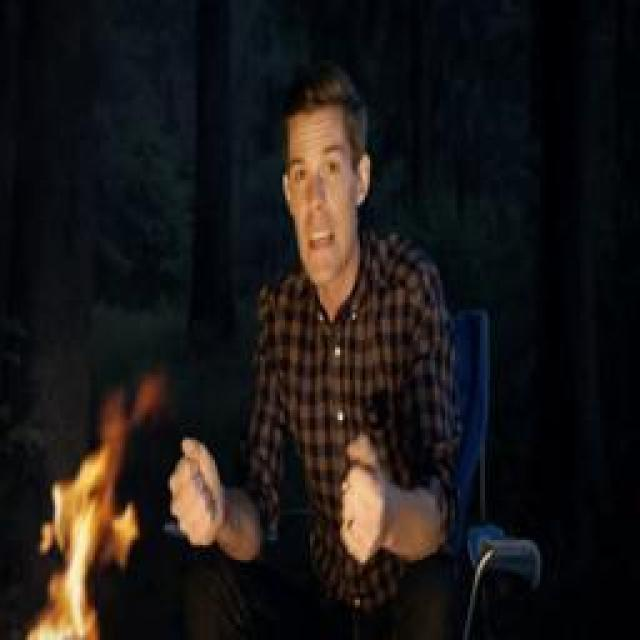Fire: (28, 370, 162, 640)
